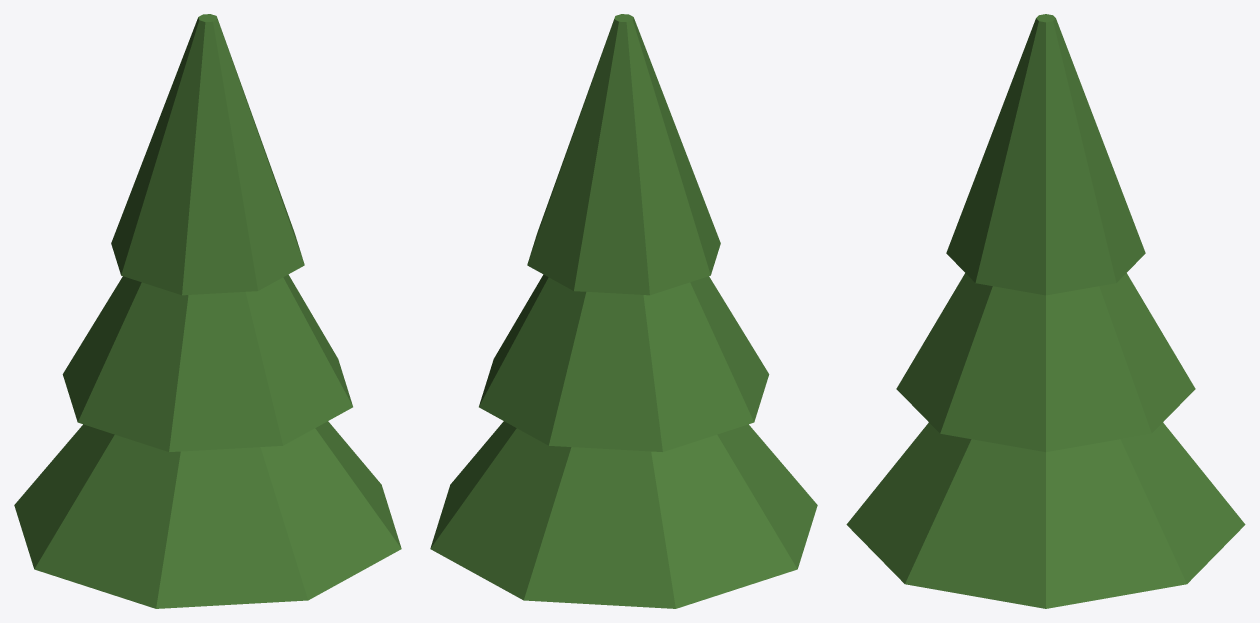
The model's file is PR_Nature_Cam.fbx.
3 views of the same model, side by side, from view 1: azimuth 30°, elevation 25°; view 2: azimuth 150°, elevation 25°; view 3: azimuth 270°, elevation 25° (orthographic).
Visible parts, largest first — view 1: PR_Nature_Cam; view 2: PR_Nature_Cam; view 3: PR_Nature_Cam.
Boxes of the visible parts, <box> form: PR_Nature_Cam: <box>14,14,401,608</box>; PR_Nature_Cam: <box>430,14,817,608</box>; PR_Nature_Cam: <box>846,14,1245,608</box>.
Size of the model in its own units: 2 by 3.1 by 2.
Materials: 1 (1 with a texture image).
